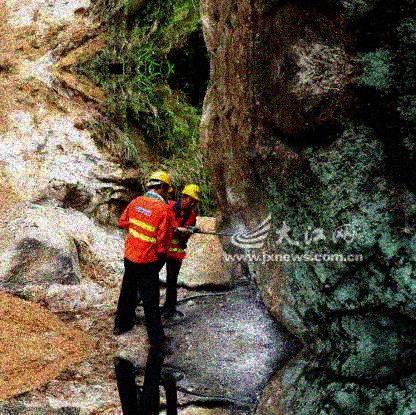helmet: (150, 170, 173, 198), (181, 182, 203, 209)
